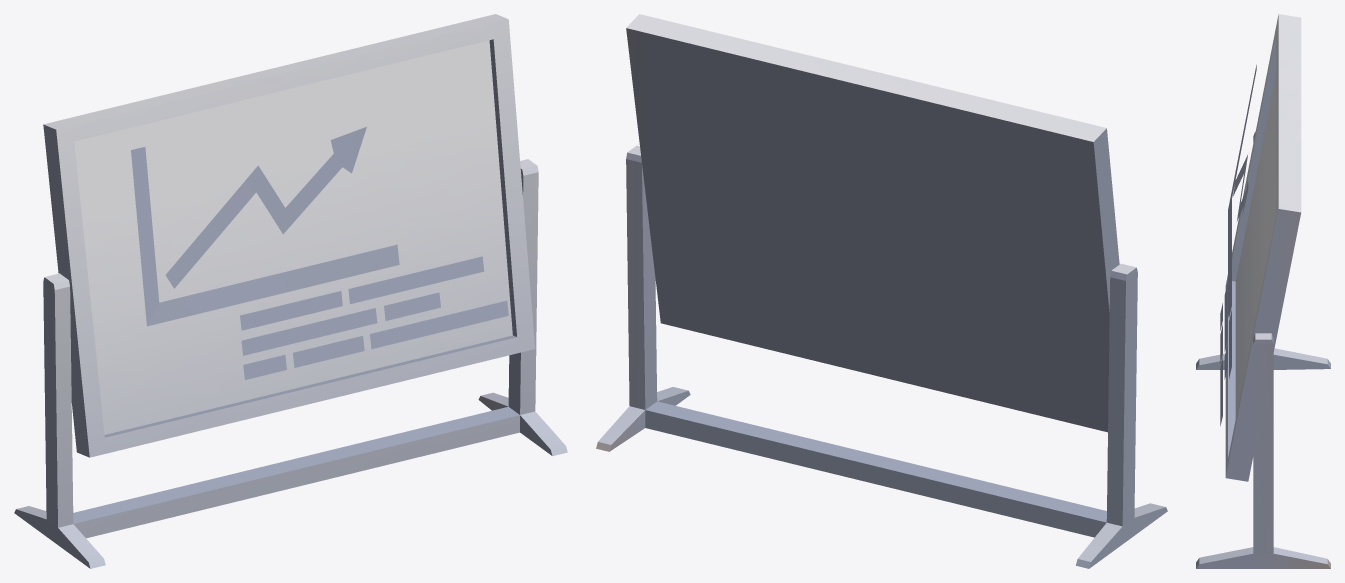
File: CMS_WhiteBoard.fbx
The picture shows the model from 3 angles, left to right: view 1: azimuth 30°, elevation 25°; view 2: azimuth 150°, elevation 25°; view 3: azimuth 270°, elevation 25°; orthographic projection. The views are drawn at different scales.
Parts seen in each view (by area): view 1: Whiteboard; view 2: Whiteboard; view 3: Whiteboard.
Boxes of the visible parts, <box> form: Whiteboard: <box>14,14,567,568</box>; Whiteboard: <box>596,14,1167,568</box>; Whiteboard: <box>1196,14,1330,568</box>.
Bounding box in the file's own units: 1160 × 921 × 317.
